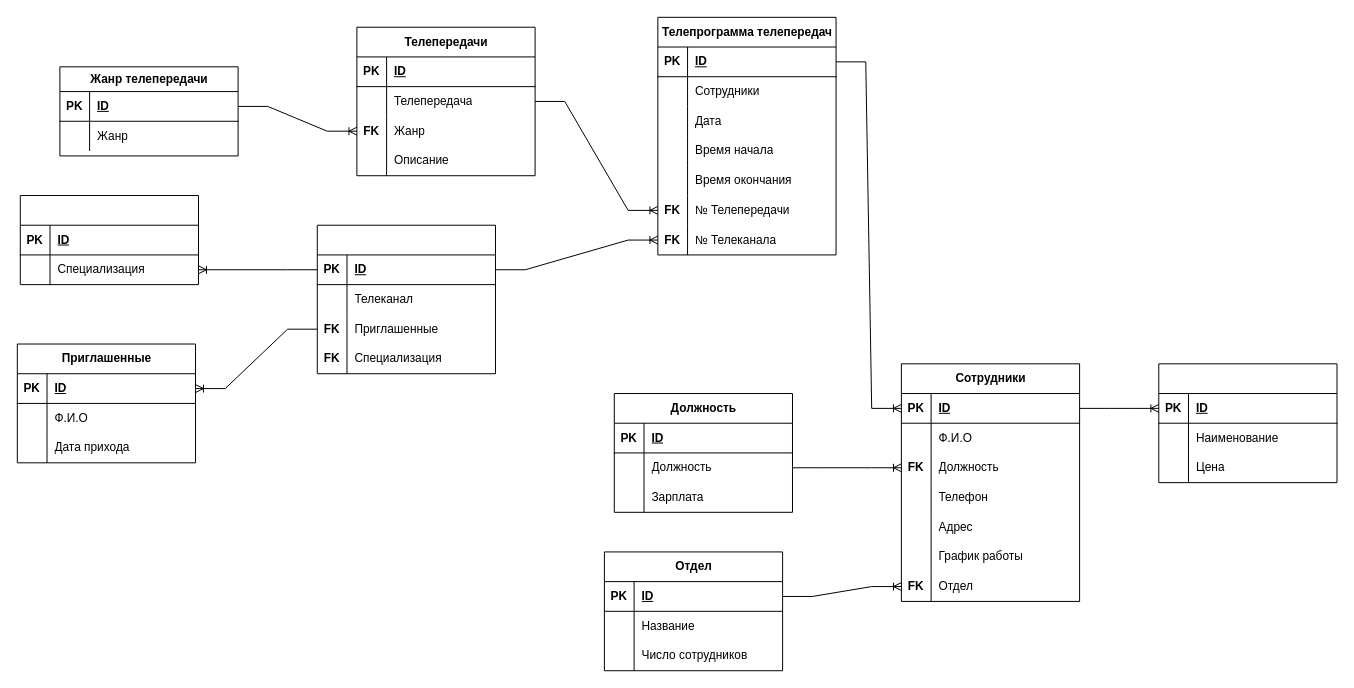
Some shapes in this 1354 by 688 pixel diagram are drawn without their labels. Here are the shapes that lost their labels. From the top down, the box of each, then its label:
(19, 195, 198, 285): Специализации
(316, 224, 495, 374): Телеканалы
(1158, 363, 1337, 483): Оборудование
